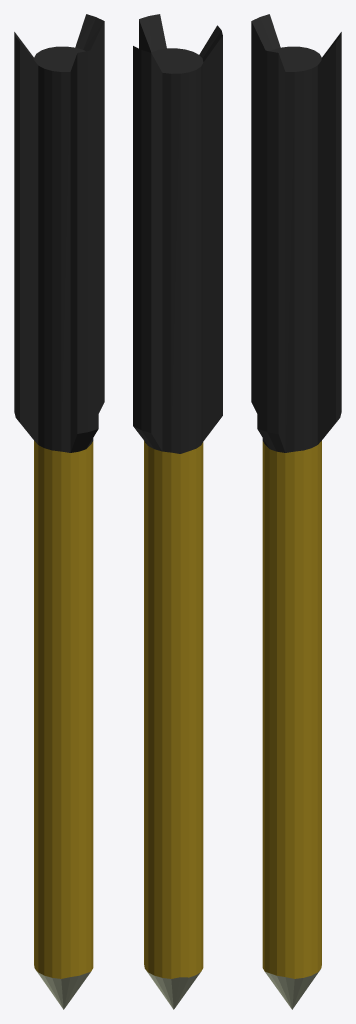
The model's file is Bolts.fbx.
The picture shows the model from 3 angles, left to right: view 1: azimuth 30°, elevation 25°; view 2: azimuth 210°, elevation 25°; view 3: azimuth 330°, elevation 25°; orthographic projection.
Parts seen in each view (by area): view 1: Bolt; view 2: Bolt; view 3: Bolt.
Part boxes in pixels (x1=…): Bolt: x1=14, y1=14, x2=104, y2=1009; Bolt: x1=133, y1=14, x2=222, y2=1009; Bolt: x1=251, y1=14, x2=341, y2=1009.
Size of the model in its own units: 1.5 by 16.59 by 1.25.
